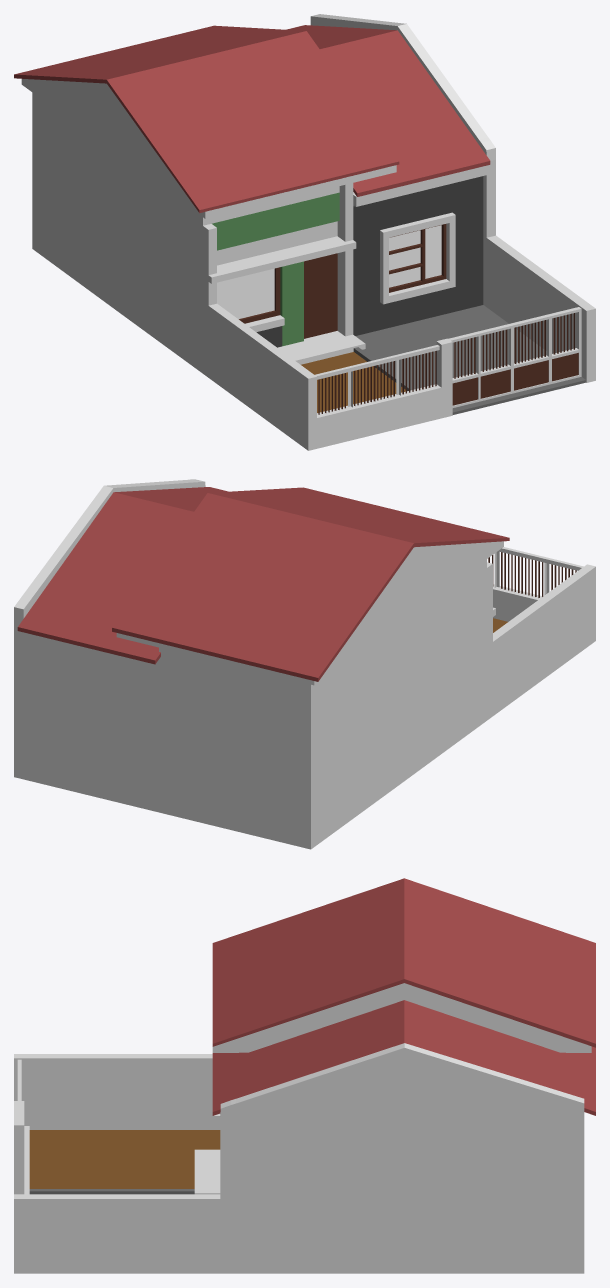
Rendered from rumah.glb.
3 renders of one model, top to bottom at view 1: azimuth 30°, elevation 25°; view 2: azimuth 150°, elevation 25°; view 3: azimuth 270°, elevation 25°, orthographic. The views are drawn at different scales.
Visible parts, largest first — view 1: Cube, Cube.002, Cube.003, Cube.005, Cube.001, Cube.011, Cube.017, Cube.016, Cube.004, Cube.009, Cube.010, Cube.006 (+3 smaller); view 2: Cube, Cube.002, Cube.003, Cube.001, Cube.009, Cube.006; view 3: Cube, Cube.002, Cube.003, Cube.005, Cube.001, Cube.004.
Part boxes in pixels (box(x1,y1,x2,y2)): Cube: box(32, 14, 595, 450); Cube.002: box(14, 25, 399, 213); Cube.003: box(287, 25, 490, 196); Cube.005: box(301, 305, 585, 414); Cube.001: box(21, 79, 396, 218); Cube.011: box(448, 307, 581, 407); Cube.017: box(389, 224, 446, 292); Cube.016: box(217, 267, 280, 323); Cube.004: box(277, 331, 365, 364); Cube.009: box(354, 361, 394, 405); Cube.010: box(402, 351, 436, 394); Cube.006: box(315, 345, 439, 379); Cube: box(14, 479, 595, 849); Cube.002: box(112, 487, 509, 681); Cube.003: box(17, 487, 227, 664); Cube.001: box(116, 541, 503, 685); Cube.009: box(501, 552, 543, 597); Cube.006: box(498, 547, 583, 570); Cube: box(14, 1043, 584, 1273); Cube.002: box(212, 878, 595, 1047); Cube.003: box(212, 1000, 595, 1115); Cube.005: box(29, 1130, 220, 1194); Cube.001: box(212, 983, 591, 1052); Cube.004: box(194, 1149, 220, 1194).
Bounding box in the file's own units: 16.76 × 12.59 × 27.22.
